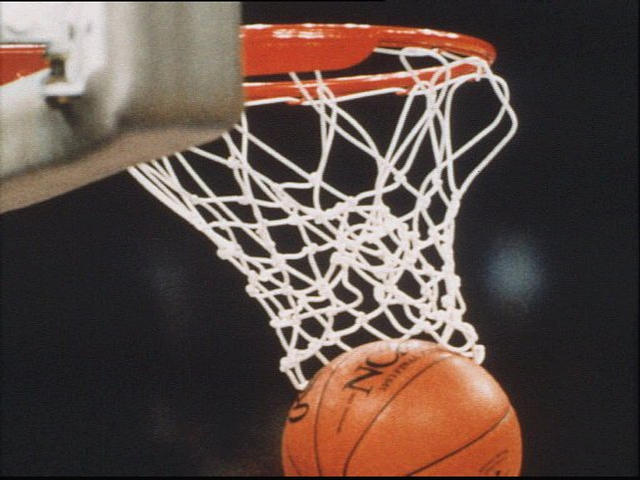basketball: (281, 337, 522, 480)
